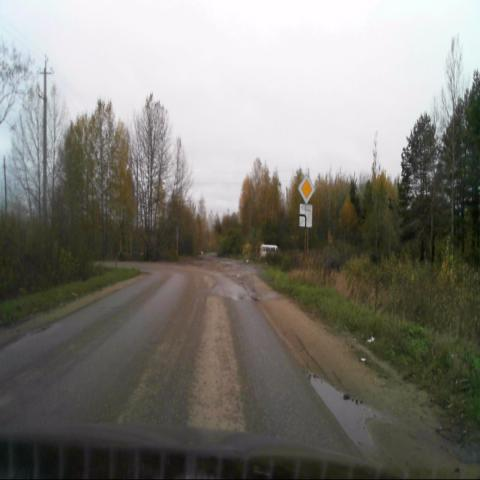8_13: (299, 205, 313, 226)
